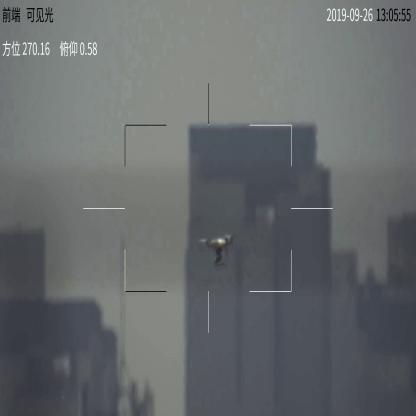uav: (197, 232, 236, 267)
